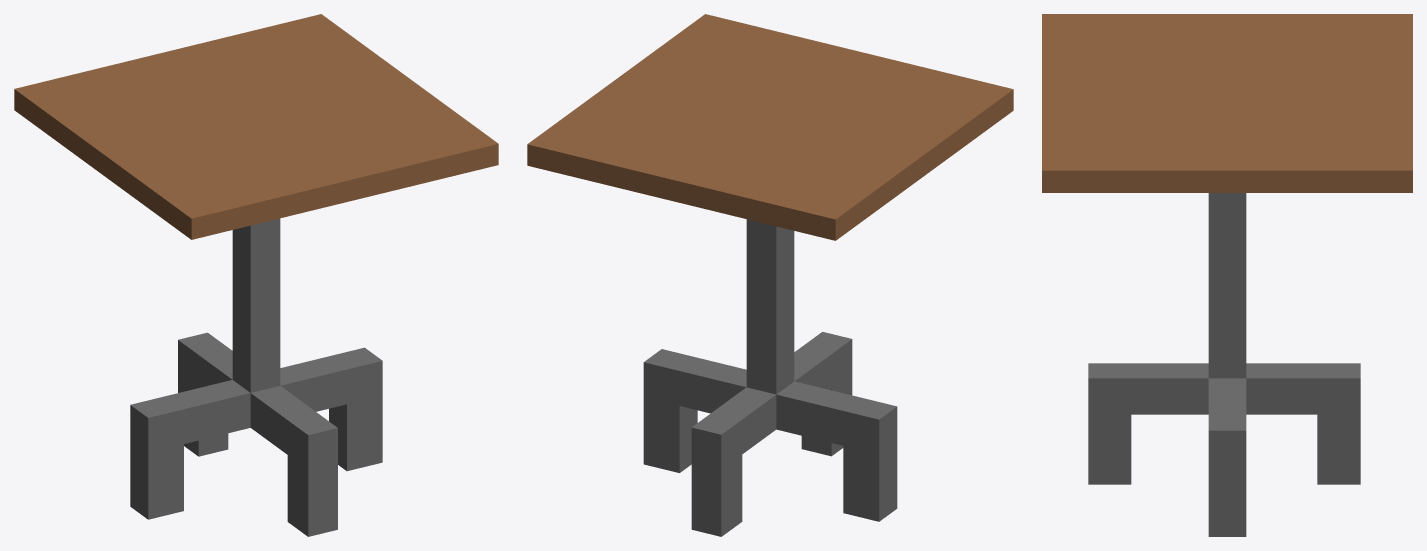
The model's file is G_CoffeeTable.fbx.
3 views of the same model, side by side, from view 1: azimuth 30°, elevation 25°; view 2: azimuth 150°, elevation 25°; view 3: azimuth 270°, elevation 25° (orthographic). The views are drawn at different scales.
Parts seen in each view (by area): view 1: G_CoffeeTable; view 2: G_CoffeeTable; view 3: G_CoffeeTable.
Part boxes in pixels (<box>): G_CoffeeTable: <box>14,14,498,536</box>; G_CoffeeTable: <box>527,14,1013,536</box>; G_CoffeeTable: <box>1042,14,1412,536</box>.
Bounding box in the file's own units: 60 × 68.73 × 60.
